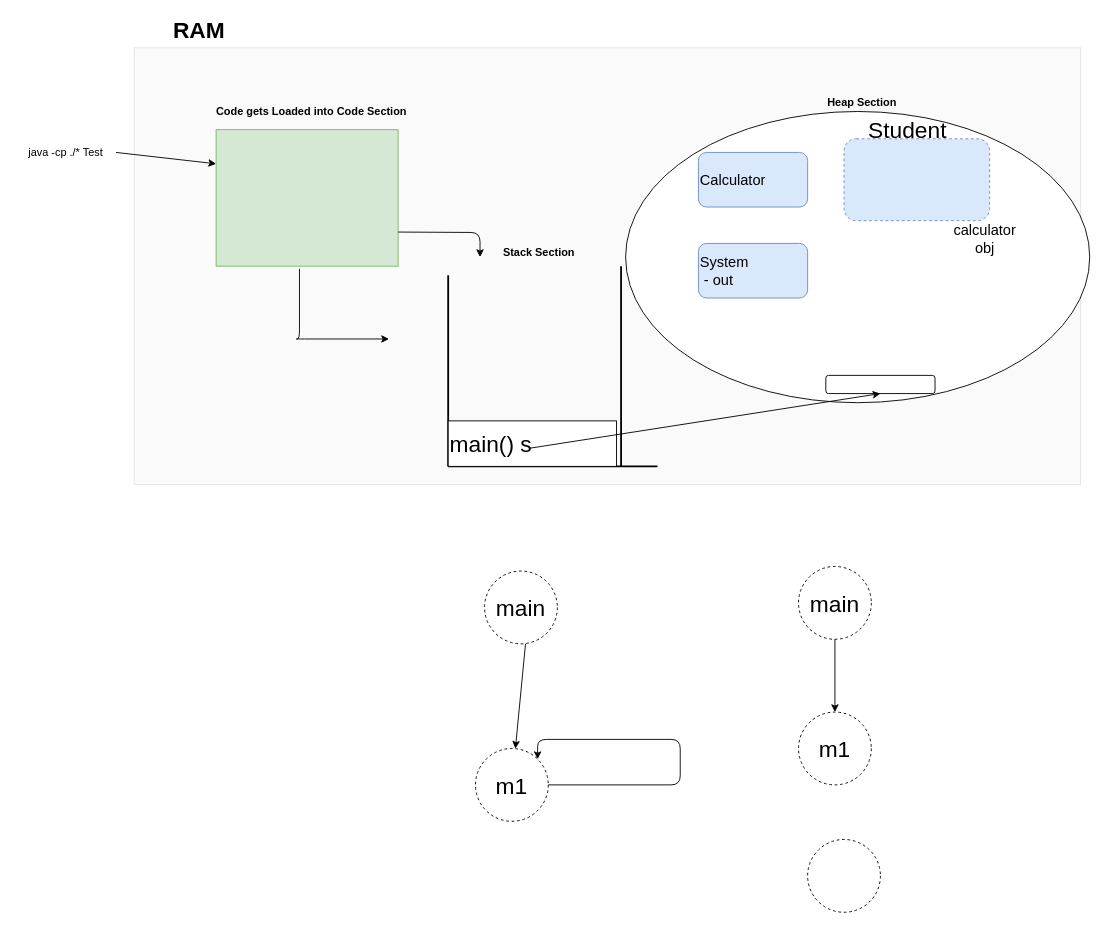
Some shapes in this 1106 by 928 pixel diagram are drawn without their labels. The shapes that lost their labels are listed below. From the top down, each one's box as (x1, y1, x2, y2) in pixels, then its label:
(215, 129, 398, 266): class Test { ---- ------main(){ - - - - - - - - - - } ------ ------ ------ }
(843, 138, 990, 221): count=1 getCount() cal
(825, 374, 935, 394): Kris
(807, 839, 880, 912): m2
